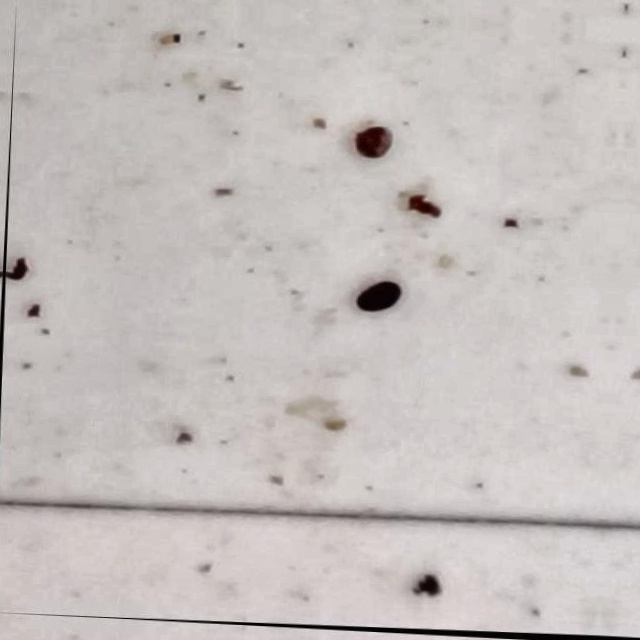varroa: (355, 277, 407, 317), (351, 123, 398, 162)
